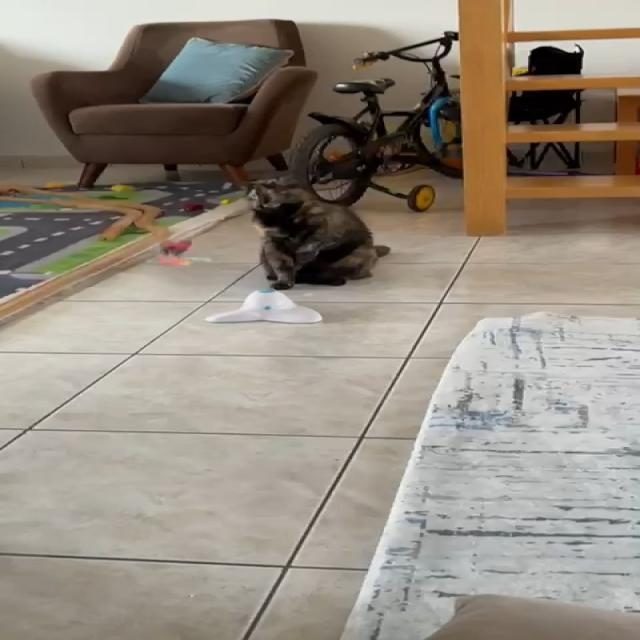authorized: (244, 176, 391, 290)
